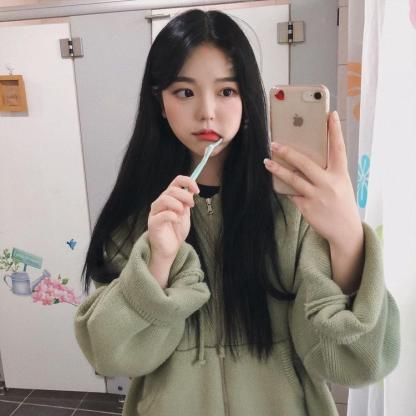person: (152, 8, 270, 174)
